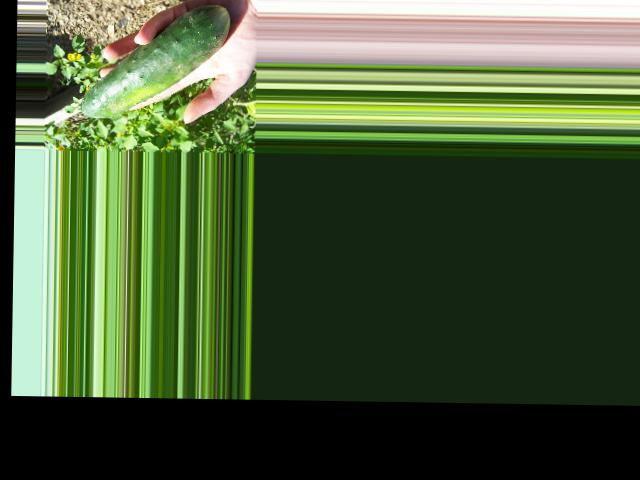cucumber: (79, 3, 229, 119)
